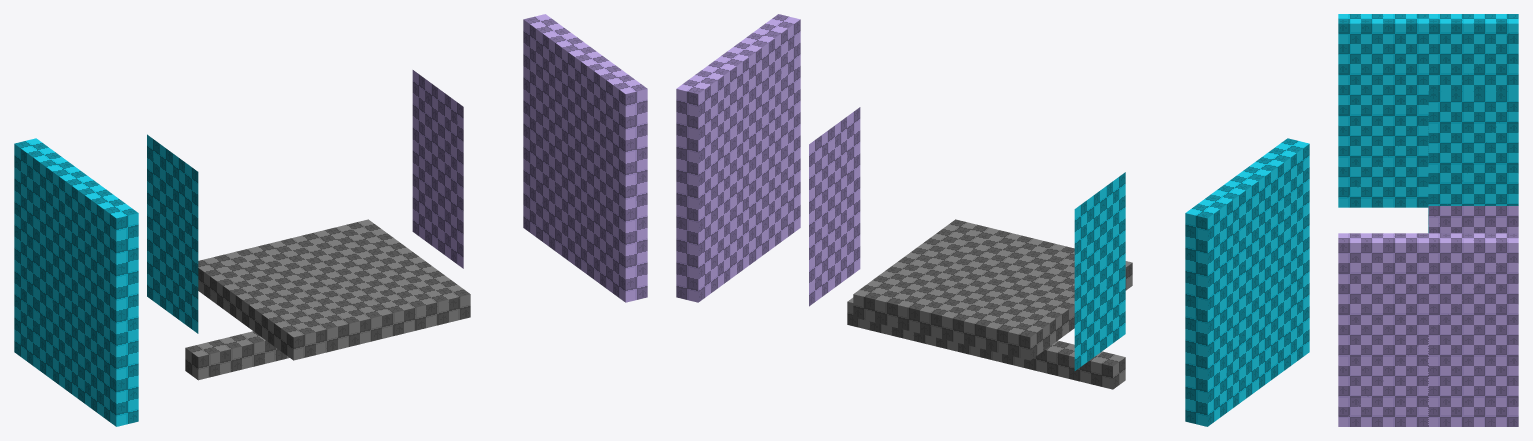
Rendered from twoplane_portal.obj.
3 views of the same model, side by side, from view 1: azimuth 30°, elevation 25°; view 2: azimuth 150°, elevation 25°; view 3: azimuth 270°, elevation 25° (orthographic). The views are drawn at different scales.
Visible parts, largest first — view 1: entity0_brush4_purple, entity0_brush5_blue, entity0_brush0, portal_exit, portal_entrance, entity0_brush3; view 2: entity0_brush4_purple, entity0_brush5_blue, entity0_brush0, portal_entrance, portal_exit, entity0_brush3; view 3: entity0_brush4_purple, entity0_brush5_blue, portal_entrance, portal_exit.
Part boxes in pixels (x1,y1,x2,y2): entity0_brush4_purple: (523, 14, 647, 302); entity0_brush5_blue: (14, 138, 138, 426); entity0_brush0: (198, 219, 470, 360); portal_exit: (412, 70, 463, 268); portal_entrance: (147, 134, 198, 333); entity0_brush3: (185, 331, 289, 380); entity0_brush4_purple: (676, 14, 800, 302); entity0_brush5_blue: (1185, 138, 1309, 426); entity0_brush0: (853, 219, 1132, 360); portal_entrance: (1074, 172, 1125, 370); portal_exit: (809, 107, 860, 306); entity0_brush3: (847, 297, 1125, 389); entity0_brush4_purple: (1338, 233, 1518, 426); entity0_brush5_blue: (1338, 14, 1518, 207); portal_entrance: (1428, 91, 1518, 232); portal_exit: (1428, 206, 1518, 233).
Size of the model in its own units: 27.47 by 11.45 by 9.16.
